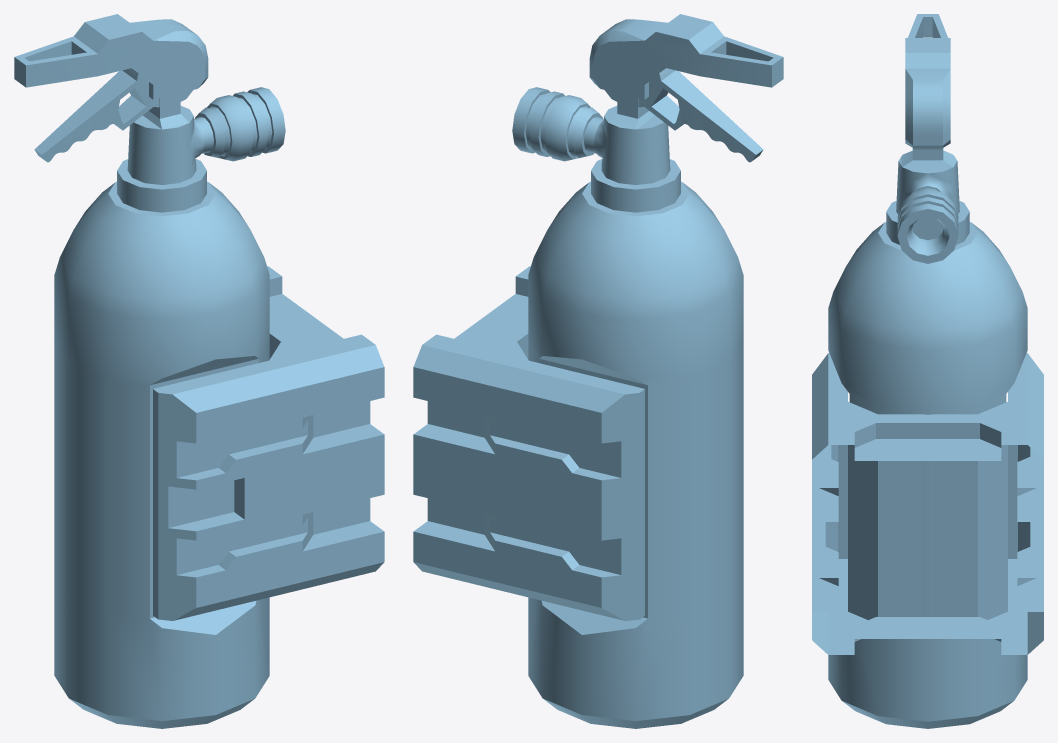
The model's file is Extinguisher.fbx.
3 views of the same model, side by side, from view 1: azimuth 30°, elevation 25°; view 2: azimuth 150°, elevation 25°; view 3: azimuth 270°, elevation 25° (orthographic). The views are drawn at different scales.
Visible parts, largest first — view 1: Extinguisher_3_low, Extinguisher_4_low, Extinguisher_1_low, Extinguisher_2_low; view 2: Extinguisher_3_low, Extinguisher_4_low, Extinguisher_1_low, Extinguisher_2_low; view 3: Extinguisher_4_low, Extinguisher_3_low, Extinguisher_1_low.
Boxes of the visible parts, <box> form: Extinguisher_3_low: <box>54,87,285,728</box>; Extinguisher_4_low: <box>153,266,384,620</box>; Extinguisher_1_low: <box>14,14,208,99</box>; Extinguisher_2_low: <box>34,68,192,162</box>; Extinguisher_3_low: <box>512,87,743,728</box>; Extinguisher_4_low: <box>413,266,644,620</box>; Extinguisher_1_low: <box>589,14,783,99</box>; Extinguisher_2_low: <box>605,68,763,162</box>; Extinguisher_4_low: <box>812,353,1043,654</box>; Extinguisher_3_low: <box>828,148,1027,728</box>; Extinguisher_1_low: <box>905,14,950,147</box>.
Bounding box in the file's own units: 26.72 × 57.17 × 19.17.
